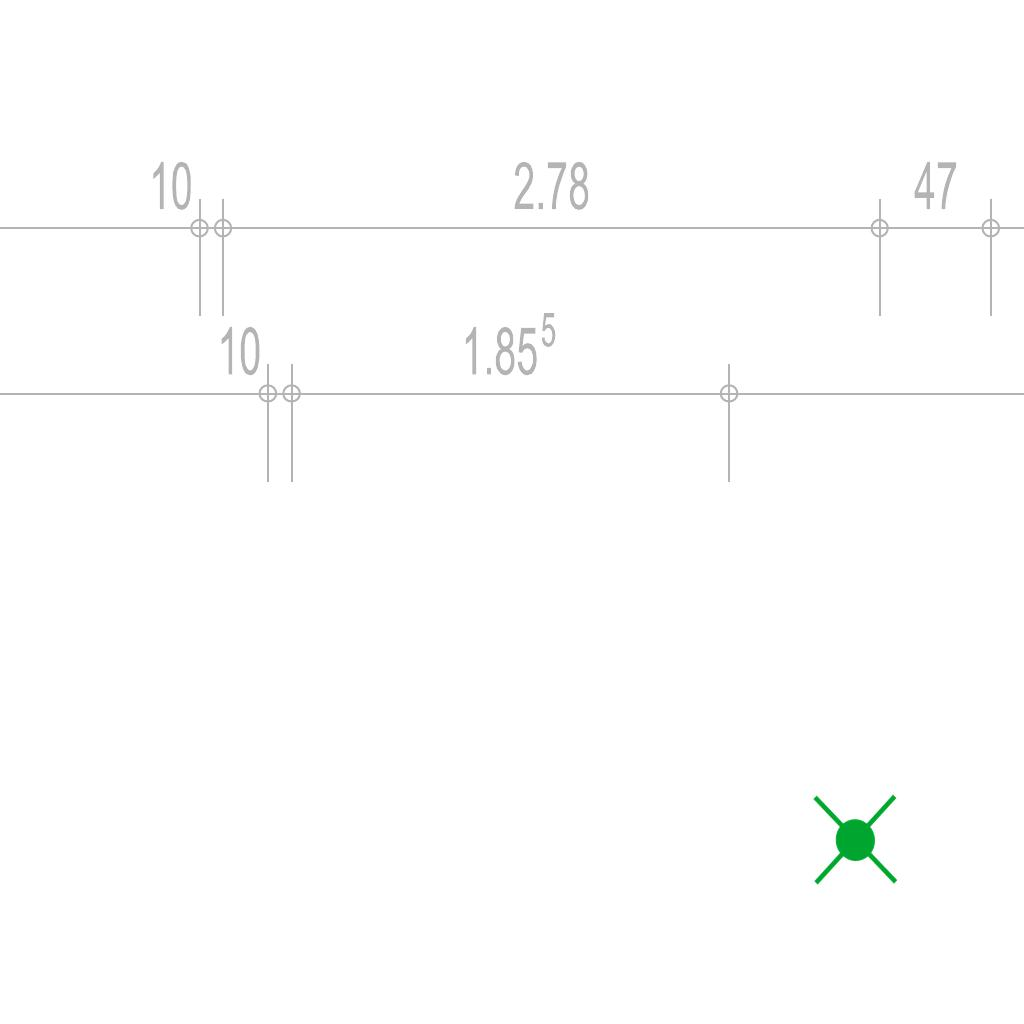Notlichtbaustein_in_Allgemeinbeleuchtug_engebaut_Einbau_(1UG_und_2UG_Aufbauvaria: (805, 790, 908, 890)
